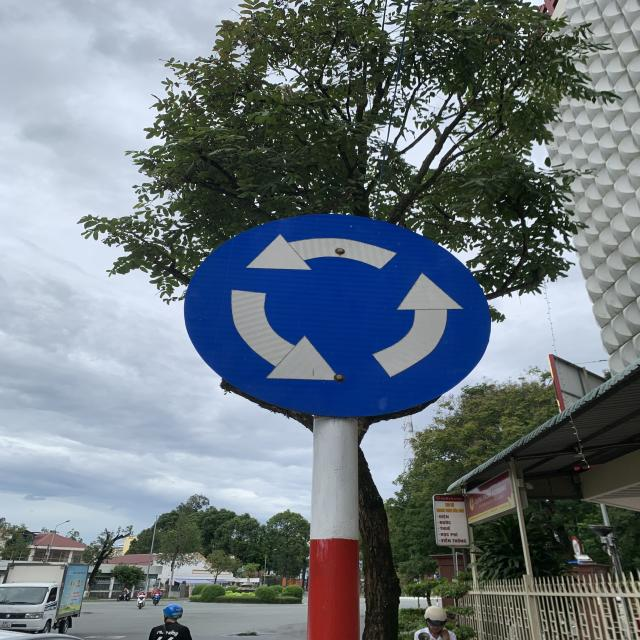Xe_Bus: (180, 216, 494, 425)
